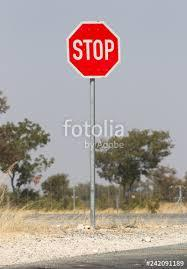Pole: (89, 79, 97, 227)
Sign: (66, 22, 120, 77)
